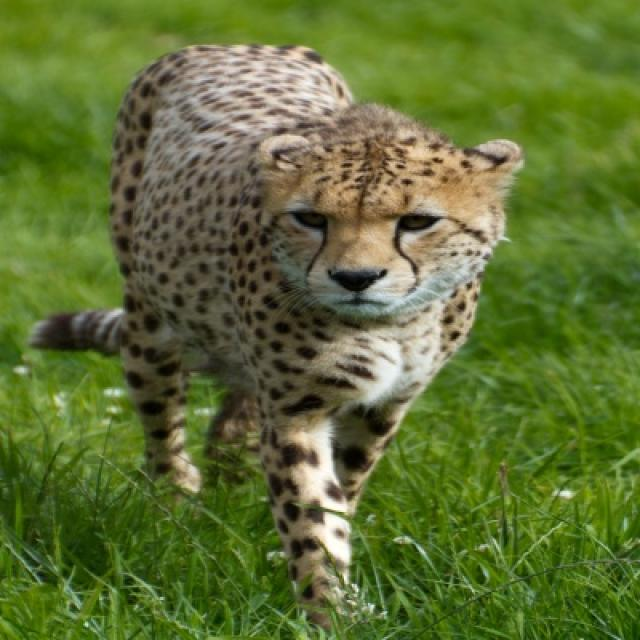Cheetah: (31, 31, 523, 603)
